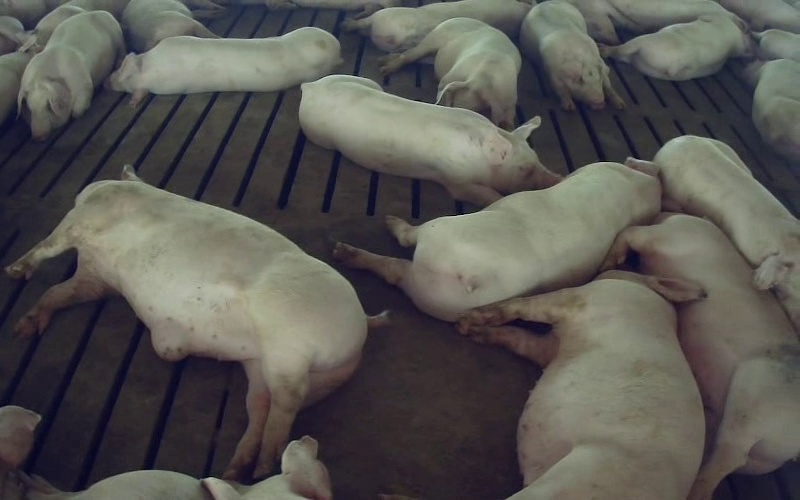pig: (7, 166, 387, 478), (457, 271, 704, 499), (607, 214, 799, 499), (334, 158, 658, 320), (299, 75, 560, 205), (653, 136, 799, 333), (105, 27, 341, 104), (381, 18, 520, 128), (18, 12, 125, 140), (520, 2, 624, 110), (344, 0, 531, 52), (601, 15, 749, 80), (744, 59, 799, 162), (122, 0, 223, 52)
